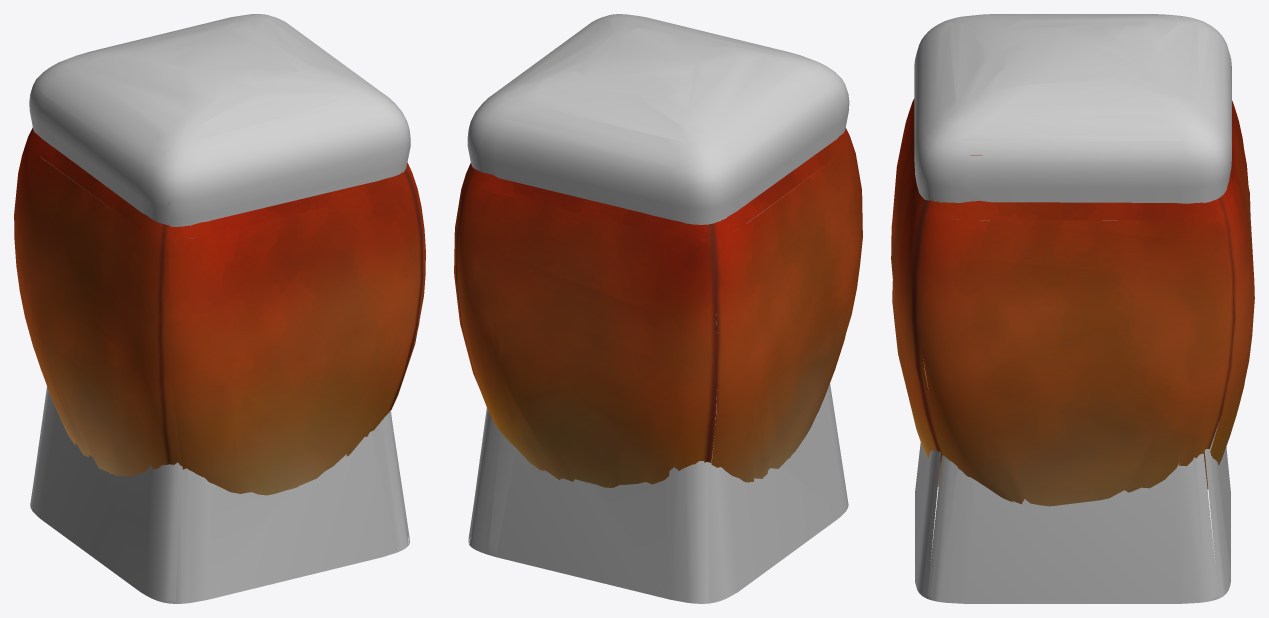
The model's file is lantern003.fbx.
3 views of the same model, side by side, from view 1: azimuth 30°, elevation 25°; view 2: azimuth 150°, elevation 25°; view 3: azimuth 270°, elevation 25° (orthographic). The views are drawn at different scales.
Parts seen in each view (by area): view 1: 2__0.003, 2__0.002; view 2: 2__0.003, 2__0.002; view 3: 2__0.003, 2__0.002.
Boxes of the visible parts, x1,y1,x2,y2 form: 2__0.003: [14, 127, 425, 495]; 2__0.002: [29, 14, 410, 603]; 2__0.003: [454, 128, 862, 487]; 2__0.002: [467, 14, 849, 603]; 2__0.003: [891, 98, 1254, 506]; 2__0.002: [914, 14, 1231, 603].
Bounding box in the file's own units: 103 × 103 × 155.
